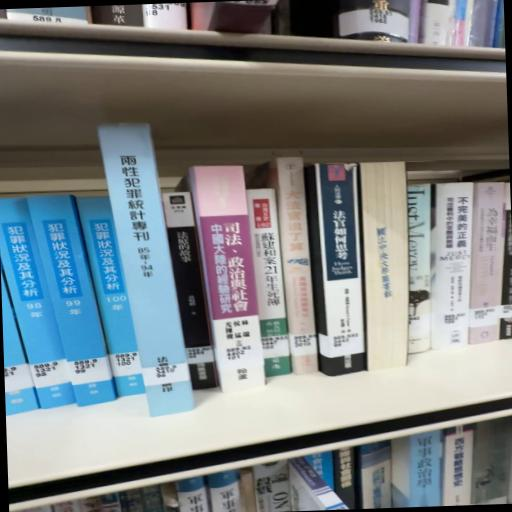backward: (356, 159, 411, 372)
book: (95, 118, 192, 414), (186, 167, 266, 397), (311, 160, 368, 375), (427, 182, 482, 353)
